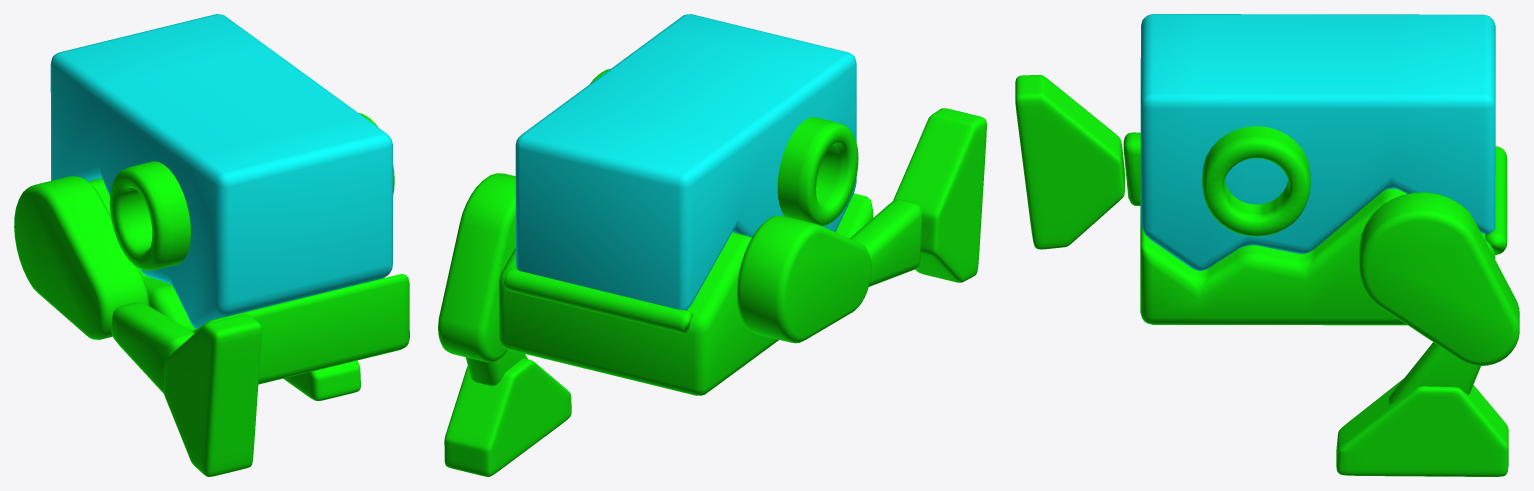
The picture shows the model from 3 angles, left to right: view 1: azimuth 30°, elevation 25°; view 2: azimuth 150°, elevation 25°; view 3: azimuth 270°, elevation 25°; orthographic projection.
Parts seen in each view (by area): view 1: Top_Jaw, Thighs_Left, Lower_Jaw, Feet_Left, Eyes, Shin_Left, Feet_Right; view 2: Top_Jaw, Lower_Jaw, Thighs_Left, Feet_Left, Thighs_Right, Feet_Right, Eyes, Hinge, Shin_Left, Shin_Right; view 3: Top_Jaw, Thighs_Right, Lower_Jaw, Feet_Left, Feet_Right, Eyes, Shin_Right, Hinge, Shin_Left.
Boxes of the visible parts, x1=… form: Top_Jaw: x1=50, y1=14, x2=392, y2=328; Thighs_Left: x1=14, y1=176, x2=148, y2=339; Lower_Jaw: x1=88, y1=178, x2=409, y2=384; Feet_Left: x1=163, y1=314, x2=261, y2=476; Eyes: x1=109, y1=113, x2=394, y2=270; Shin_Left: x1=111, y1=302, x2=194, y2=393; Feet_Right: x1=283, y1=360, x2=360, y2=400; Top_Jaw: x1=515, y1=14, x2=856, y2=310; Lower_Jaw: x1=499, y1=193, x2=873, y2=395; Thighs_Left: x1=737, y1=215, x2=871, y2=343; Feet_Left: x1=893, y1=108, x2=986, y2=282; Thighs_Right: x1=438, y1=173, x2=515, y2=362; Feet_Right: x1=444, y1=358, x2=571, y2=476; Eyes: x1=590, y1=69, x2=858, y2=226; Hinge: x1=504, y1=268, x2=693, y2=333; Shin_Left: x1=850, y1=199, x2=922, y2=286; Shin_Right: x1=466, y1=350, x2=527, y2=385; Top_Jaw: x1=1140, y1=14, x2=1495, y2=270; Thighs_Right: x1=1359, y1=192, x2=1519, y2=365; Lower_Jaw: x1=1140, y1=188, x2=1495, y2=325; Feet_Left: x1=1015, y1=74, x2=1124, y2=249; Feet_Right: x1=1336, y1=378, x2=1508, y2=476; Eyes: x1=1202, y1=126, x2=1310, y2=236; Shin_Right: x1=1389, y1=342, x2=1480, y2=404; Hinge: x1=1485, y1=146, x2=1507, y2=254; Shin_Left: x1=1123, y1=132, x2=1140, y2=205.
Size of the model in its own units: 2.03 by 2.18 by 2.84.
